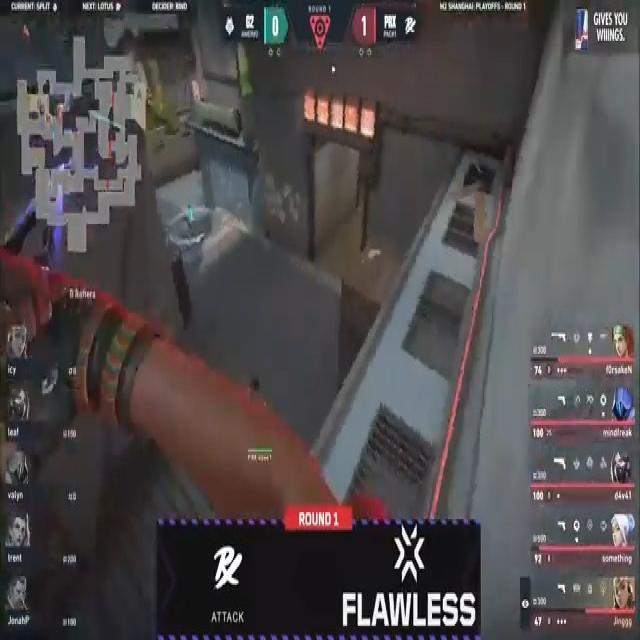spike-planted: (182, 196, 200, 246)
